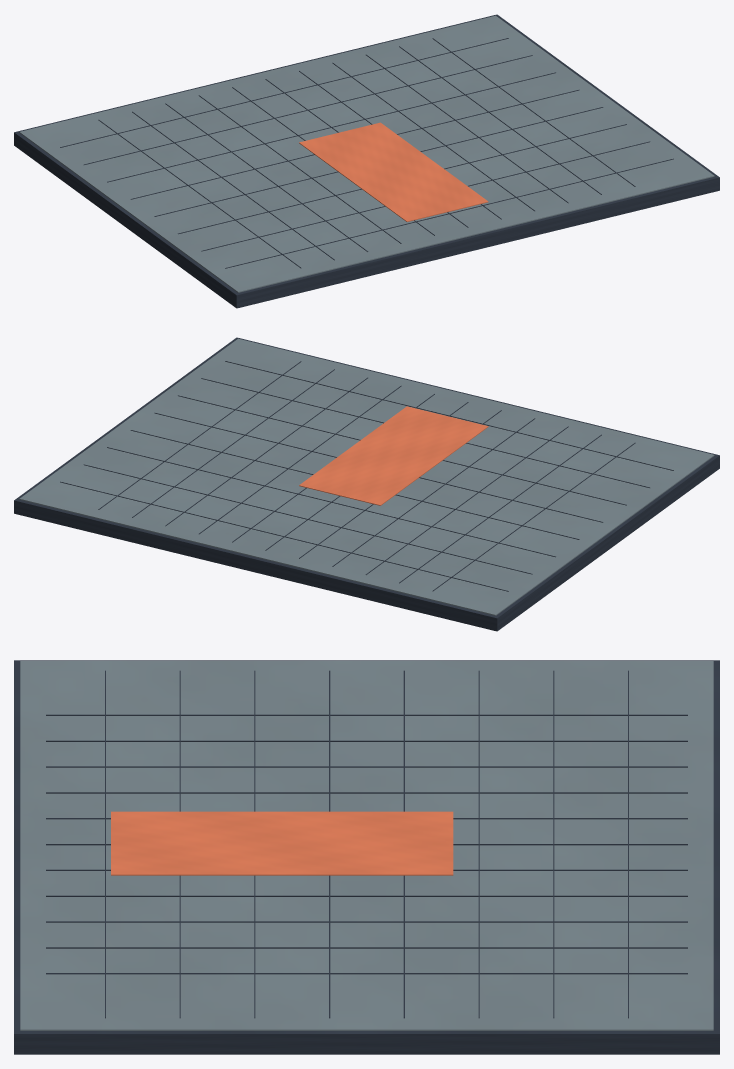
File: atlas100-s026-a07.glb
3 renders of one model, top to bottom at view 1: azimuth 30°, elevation 25°; view 2: azimuth 150°, elevation 25°; view 3: azimuth 270°, elevation 25°, orthographic. The views are drawn at different scales.
Visible parts, largest first — view 1: atlas100-s026-a07:part-001, atlas100-s026-a07:part-000, atlas100-s026-a07:part-021, atlas100-s026-a07:part-015, atlas100-s026-a07:part-014, atlas100-s026-a07:part-013, atlas100-s026-a07:part-020, atlas100-s026-a07:part-017, atlas100-s026-a07:part-019, atlas100-s026-a07:part-016, atlas100-s026-a07:part-018; view 2: atlas100-s026-a07:part-001, atlas100-s026-a07:part-000, atlas100-s026-a07:part-021, atlas100-s026-a07:part-014, atlas100-s026-a07:part-013, atlas100-s026-a07:part-020, atlas100-s026-a07:part-015, atlas100-s026-a07:part-016, atlas100-s026-a07:part-019, atlas100-s026-a07:part-018, atlas100-s026-a07:part-017; view 3: atlas100-s026-a07:part-001, atlas100-s026-a07:part-000, atlas100-s026-a07:part-021, atlas100-s026-a07:part-002, atlas100-s026-a07:part-003, atlas100-s026-a07:part-004, atlas100-s026-a07:part-005, atlas100-s026-a07:part-009, atlas100-s026-a07:part-010, atlas100-s026-a07:part-011, atlas100-s026-a07:part-012, atlas100-s026-a07:part-014 (+1 smaller).
Part boxes in pixels (left/top/right/bottom): atlas100-s026-a07:part-001: left=19, top=15, right=714, bottom=292; atlas100-s026-a07:part-000: left=14, top=14, right=719, bottom=308; atlas100-s026-a07:part-021: left=299, top=122, right=488, bottom=221; atlas100-s026-a07:part-015: left=107, top=72, right=555, bottom=182; atlas100-s026-a07:part-014: left=84, top=55, right=532, bottom=164; atlas100-s026-a07:part-013: left=60, top=38, right=508, bottom=147; atlas100-s026-a07:part-020: left=225, top=158, right=673, bottom=268; atlas100-s026-a07:part-017: left=154, top=107, right=603, bottom=216; atlas100-s026-a07:part-019: left=201, top=141, right=650, bottom=251; atlas100-s026-a07:part-016: left=130, top=89, right=579, bottom=199; atlas100-s026-a07:part-018: left=178, top=124, right=626, bottom=234; atlas100-s026-a07:part-001: left=19, top=338, right=714, bottom=615; atlas100-s026-a07:part-000: left=14, top=337, right=719, bottom=631; atlas100-s026-a07:part-021: left=299, top=406, right=488, bottom=505; atlas100-s026-a07:part-014: left=83, top=464, right=532, bottom=574; atlas100-s026-a07:part-013: left=60, top=481, right=508, bottom=591; atlas100-s026-a07:part-020: left=225, top=361, right=673, bottom=470; atlas100-s026-a07:part-015: left=107, top=447, right=555, bottom=557; atlas100-s026-a07:part-016: left=130, top=430, right=579, bottom=539; atlas100-s026-a07:part-019: left=201, top=378, right=649, bottom=487; atlas100-s026-a07:part-018: left=178, top=395, right=626, bottom=505; atlas100-s026-a07:part-017: left=154, top=412, right=603, bottom=522; atlas100-s026-a07:part-001: left=20, top=661, right=713, bottom=1030; atlas100-s026-a07:part-000: left=14, top=660, right=719, bottom=1054; atlas100-s026-a07:part-021: left=111, top=811, right=453, bottom=875; atlas100-s026-a07:part-002: left=46, top=714, right=687, bottom=715; atlas100-s026-a07:part-003: left=46, top=740, right=687, bottom=741; atlas100-s026-a07:part-004: left=46, top=766, right=687, bottom=767; atlas100-s026-a07:part-005: left=46, top=792, right=687, bottom=793; atlas100-s026-a07:part-009: left=46, top=895, right=687, bottom=896; atlas100-s026-a07:part-010: left=46, top=921, right=687, bottom=922; atlas100-s026-a07:part-011: left=46, top=947, right=687, bottom=948; atlas100-s026-a07:part-012: left=46, top=973, right=687, bottom=974; atlas100-s026-a07:part-014: left=553, top=670, right=554, bottom=1018.
Bounding box in the file's own units: 13.02 × 0.404 × 10.4.
Materials: 3 (3 with a texture image).
